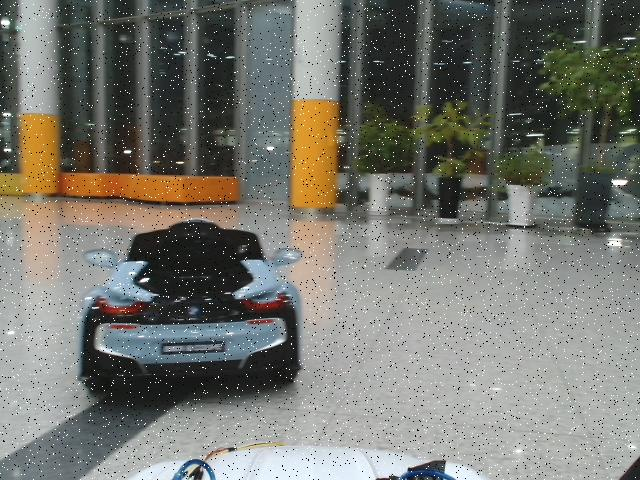car: (78, 218, 303, 392)
